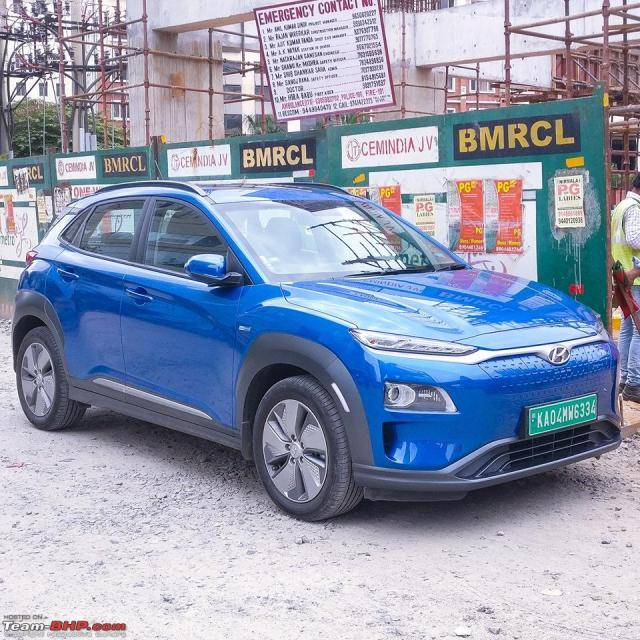plate: (525, 391, 598, 437)
